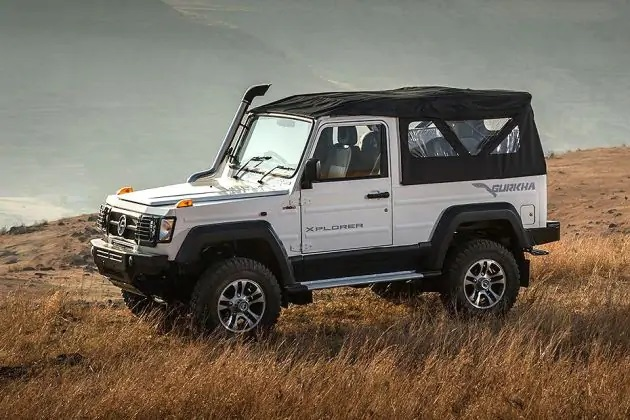Vehicle: (92, 79, 564, 336)
